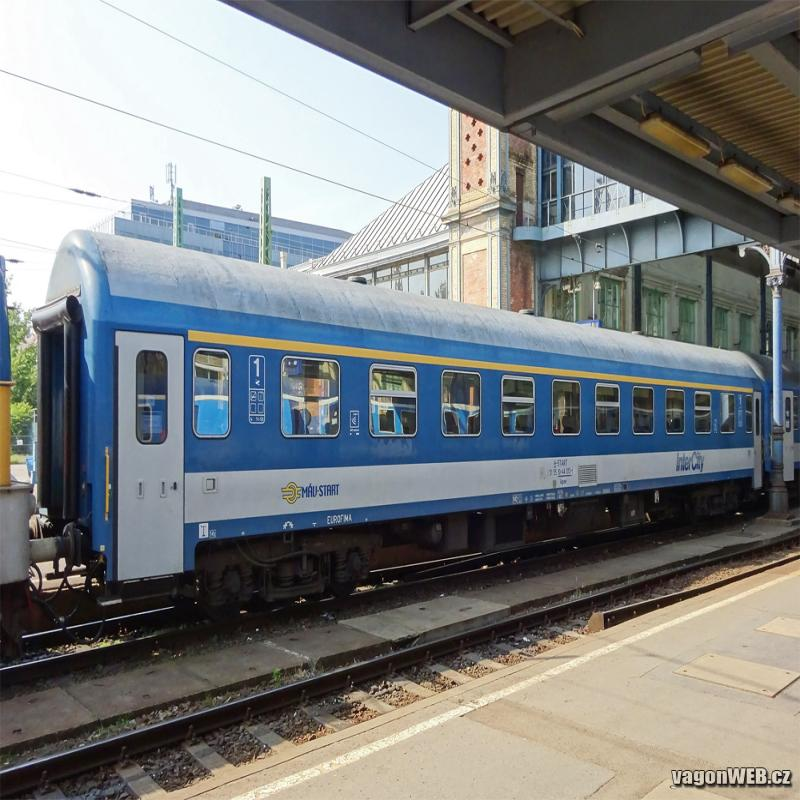train: (38, 230, 769, 624)
